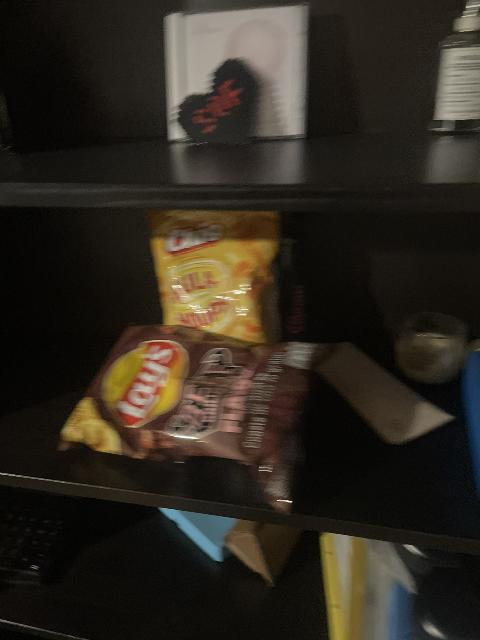Chio Hula Hoops Cheese 70g: (145, 210, 286, 345)
Lays Beef Grilled Ribs 125g: (62, 324, 331, 502)
